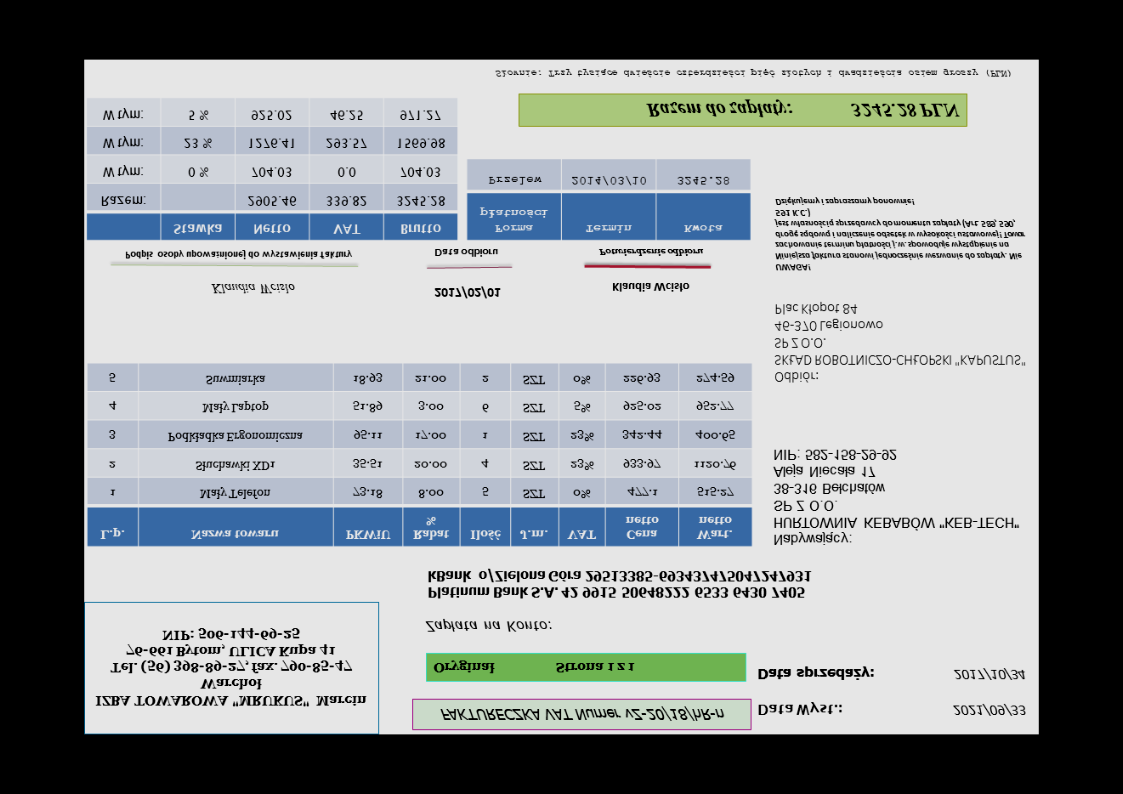Table: (86, 361, 753, 548), (85, 96, 457, 241), (465, 157, 752, 242)
TextBox: (772, 446, 1023, 548), (93, 624, 367, 711), (773, 299, 1029, 385), (772, 194, 1029, 275), (424, 568, 813, 601), (644, 97, 961, 121), (492, 67, 1014, 80), (437, 705, 728, 724), (431, 658, 637, 678), (123, 247, 355, 262), (423, 616, 554, 637), (754, 663, 877, 684), (757, 700, 845, 719), (950, 700, 1027, 720), (208, 281, 297, 298), (597, 246, 706, 259), (951, 666, 1027, 684), (431, 284, 503, 301), (609, 280, 690, 294), (432, 247, 498, 259)
